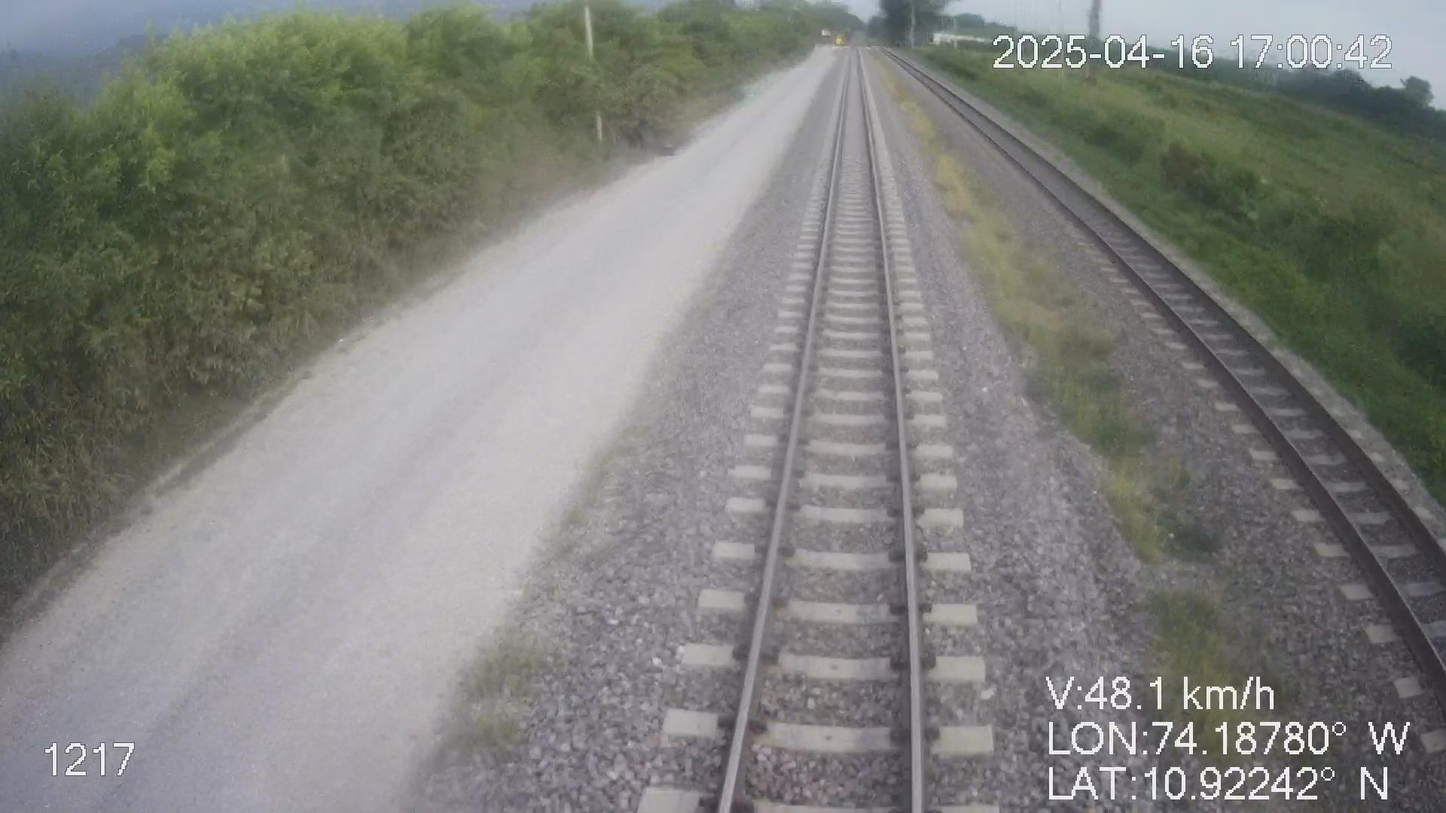Pasto: (0, 0, 841, 620), (917, 24, 1445, 547)
